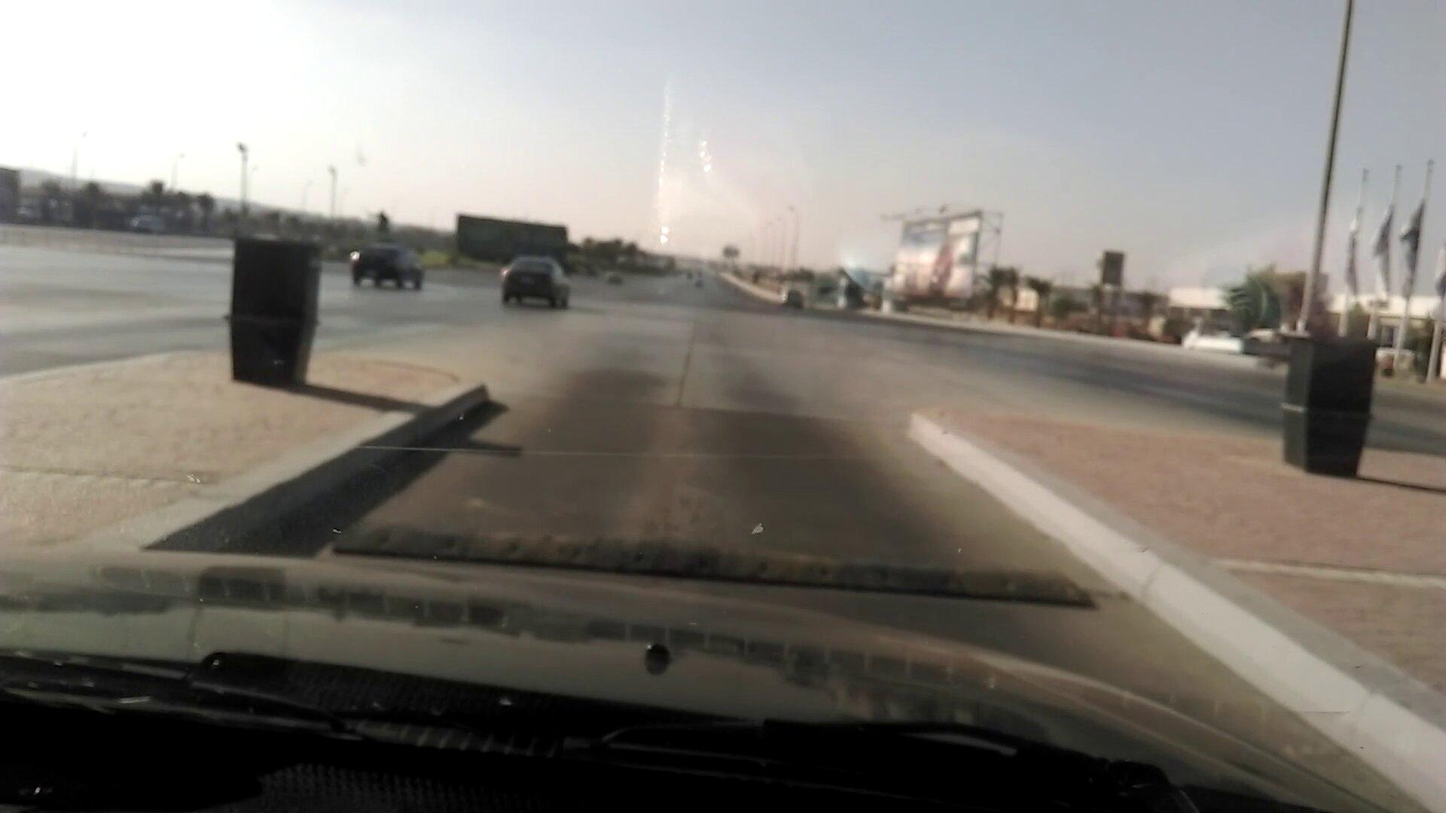Bump: (354, 504, 1071, 612)
